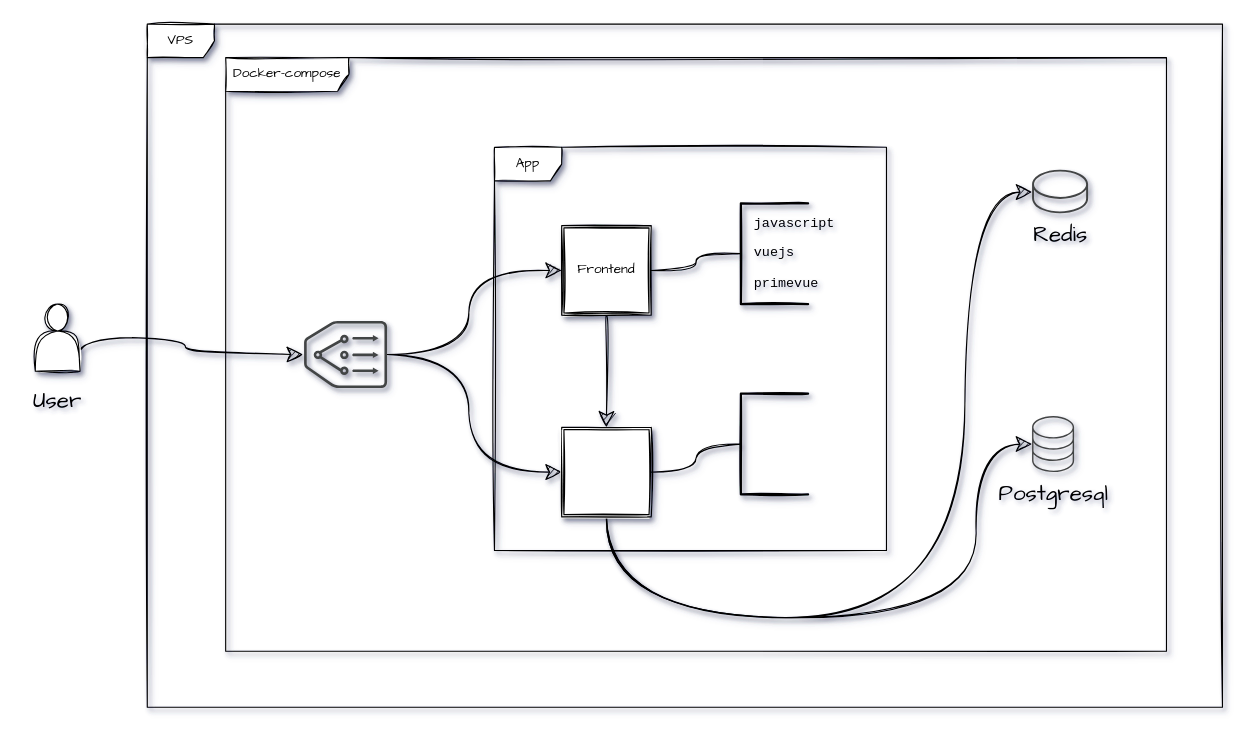
Image size: 1256x741. Some labels were removed from this diagram. The shapes that lost their labels are listed below. From the top down, each one's centre as x and y in pixels, then its label:
At point (346, 355): "Nginx".
At point (775, 445): "golang fiber gorm".
At point (607, 473): "Backend".
